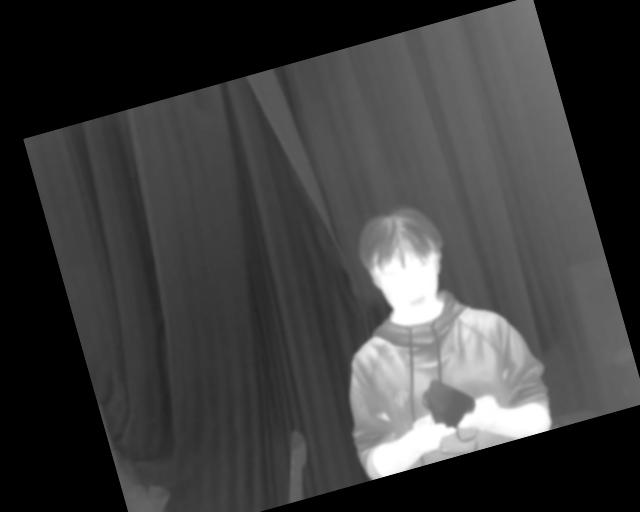face: (351, 201, 456, 325)
